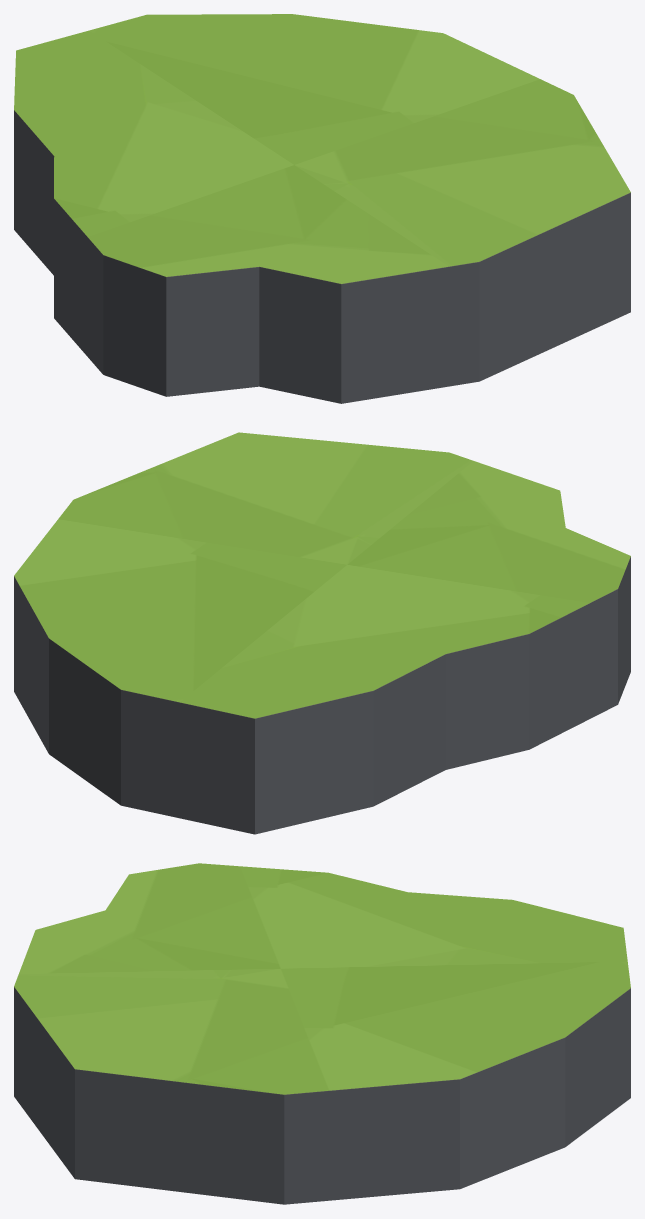
The picture shows the model from 3 angles, top to bottom: view 1: azimuth 30°, elevation 25°; view 2: azimuth 150°, elevation 25°; view 3: azimuth 270°, elevation 25°; orthographic projection. The views are drawn at different scales.
Parts seen in each view (by area): view 1: SF_05; view 2: SF_05; view 3: SF_05.
Boxes of the visible parts, box(x1,y1,x2,y2) form: SF_05: box(14, 14, 630, 403); SF_05: box(14, 432, 630, 834); SF_05: box(14, 863, 630, 1204).
Bounding box in the file's own units: 3.16 × 0.7 × 3.56.
